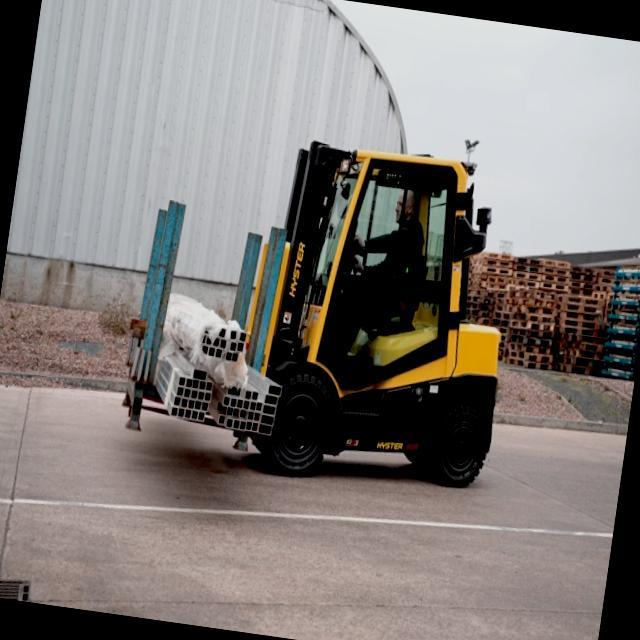driver: (346, 184, 438, 360)
forklift: (252, 119, 534, 513)
